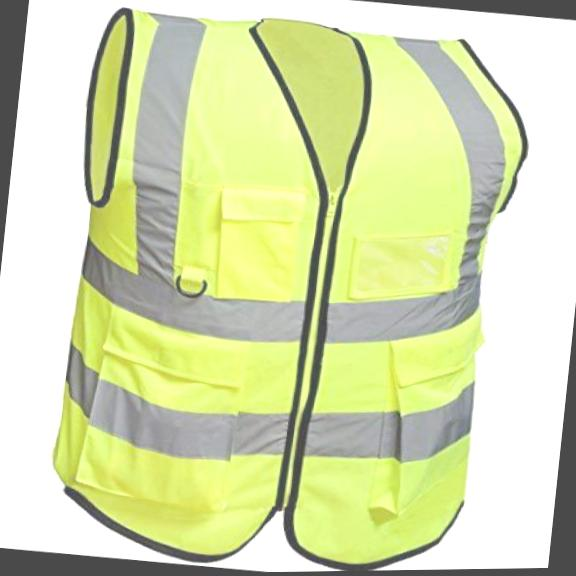safety_vest: (36, 0, 542, 575)
